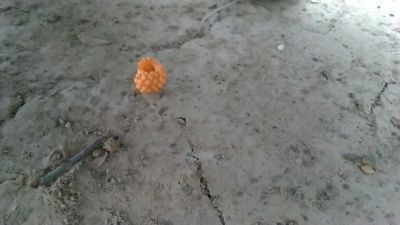eggs: (133, 53, 171, 97)
